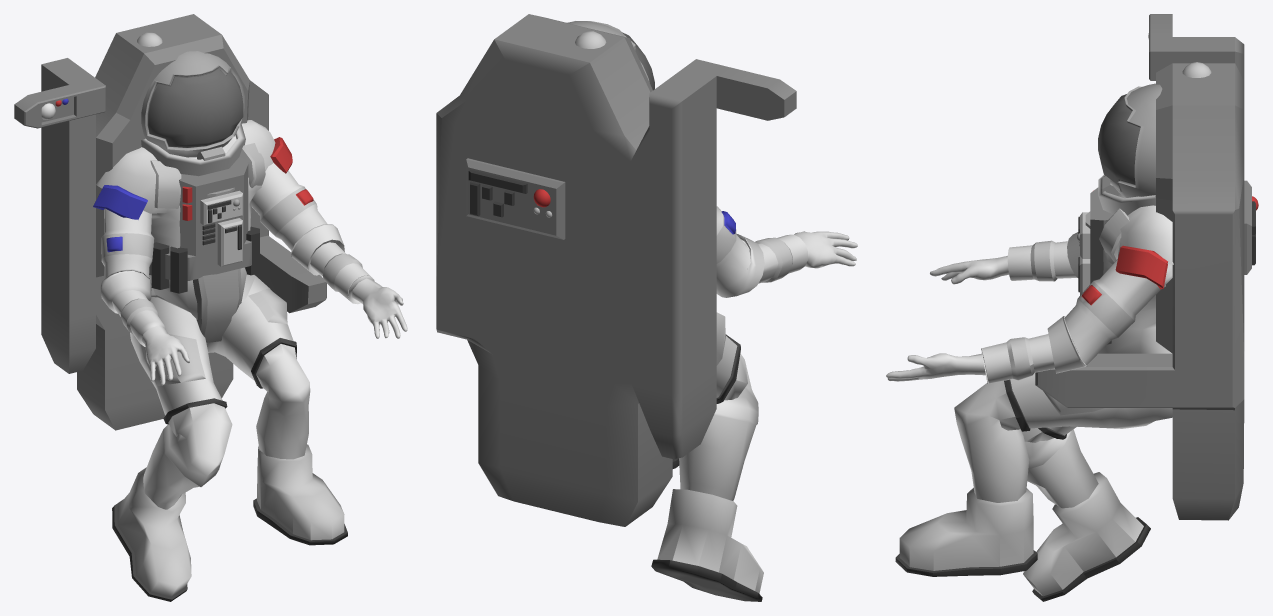
The model's file is Astronaut_triangulate.fbx.
3 views of the same model, side by side, from view 1: azimuth 30°, elevation 25°; view 2: azimuth 150°, elevation 25°; view 3: azimuth 270°, elevation 25° (orthographic). The views are drawn at different scales.
Visible parts, largest first — view 1: astronaut_geo; view 2: astronaut_geo; view 3: astronaut_geo.
Boxes of the visible parts, x1,y1,x2,y2 form: astronaut_geo: [14, 14, 407, 601]; astronaut_geo: [436, 14, 857, 601]; astronaut_geo: [886, 14, 1258, 601].
Bounding box in the file's own units: 4.2 × 7.18 × 4.33.
